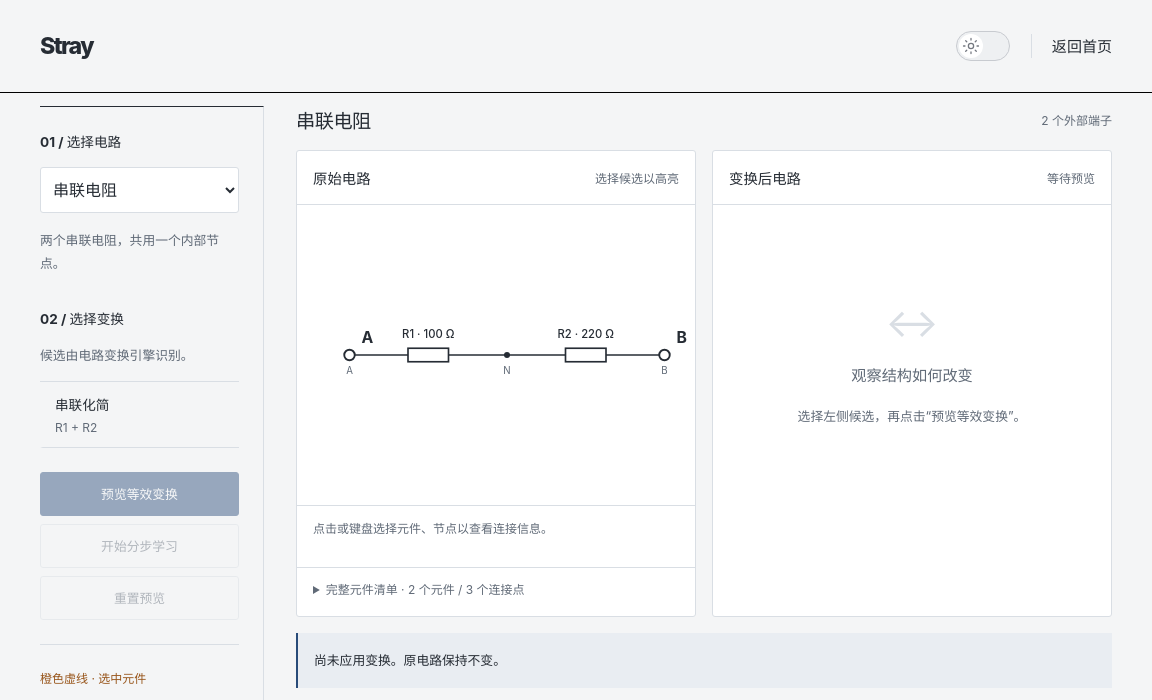
Test: M5 learning mode integration › handles a rejected lesson application with no fictional lesson
(page scrolled)
Click the button "串联化简 R1 + R2" at (140, 414), box 40,382 -> 239,448
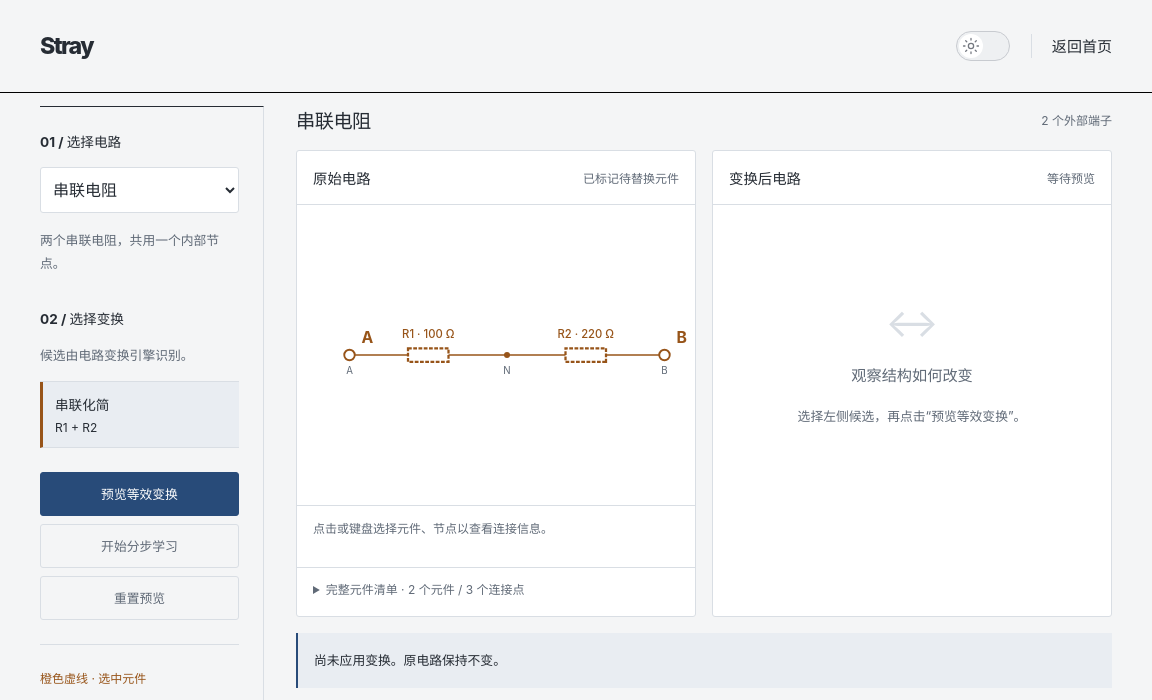
Click the button "开始分步学习" at (140, 546), box 40,524 -> 239,568
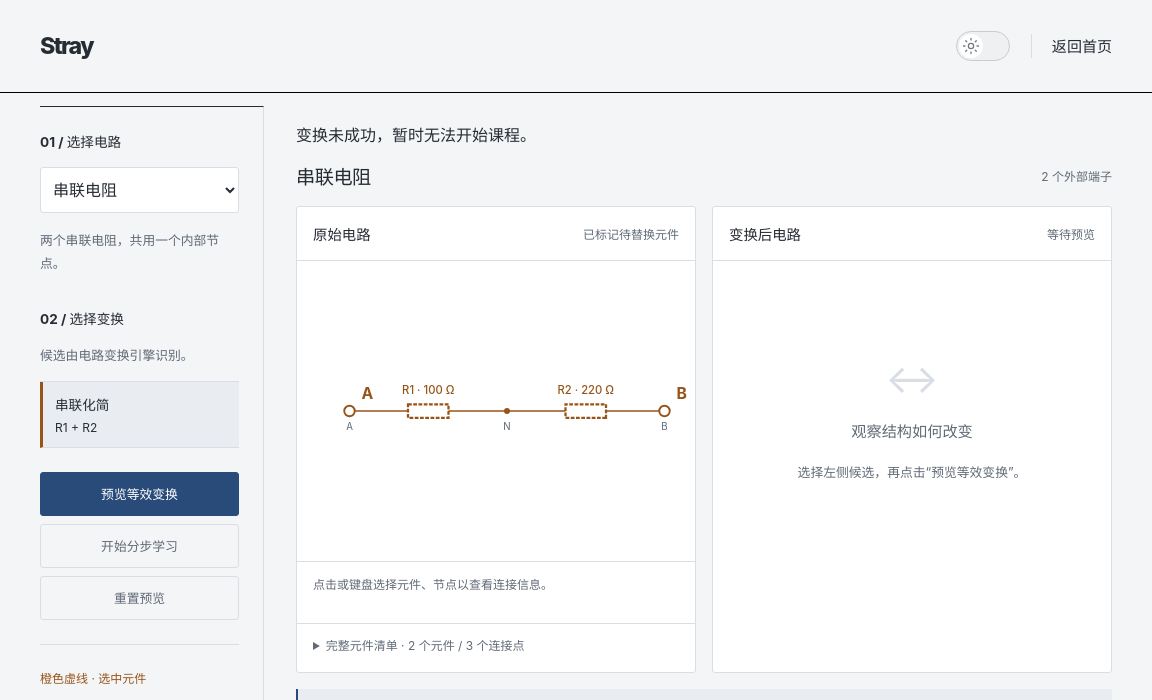
Now the message "变换未成功，暂时无法开始课程。" is shown, box 296,125 -> 536,145
